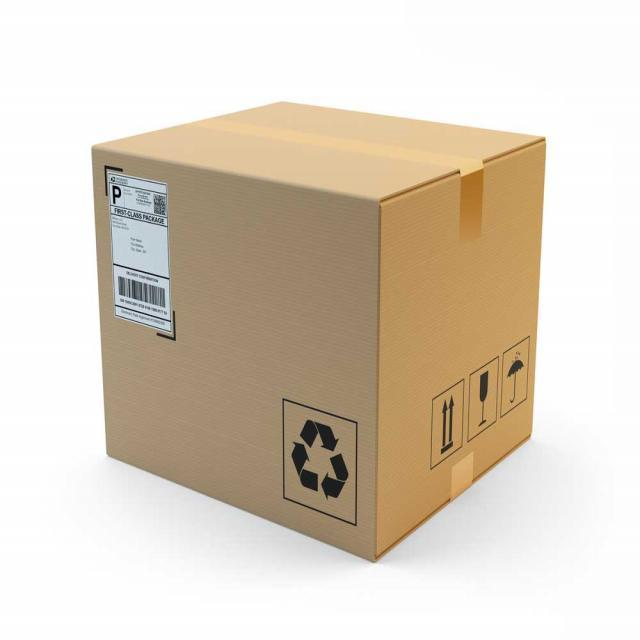box: (88, 94, 556, 571)
